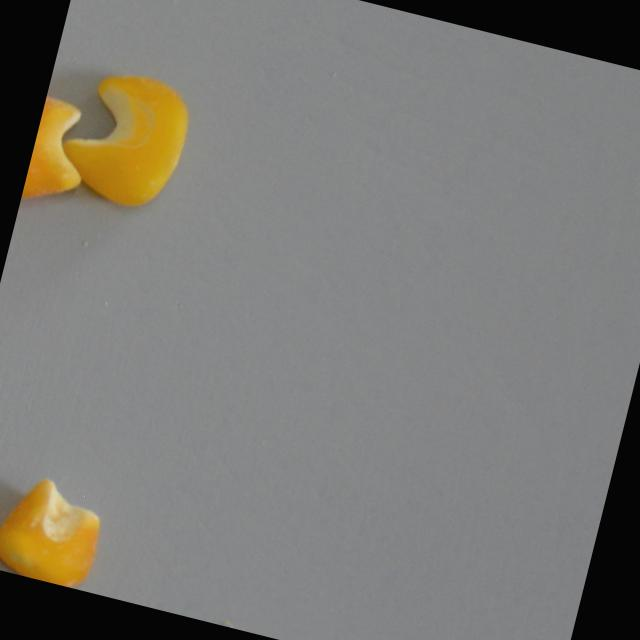no_canjicado: (49, 59, 201, 220), (0, 469, 111, 592)
pelicula: (21, 91, 99, 211)
